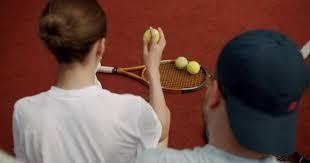ball_tennis: (143, 28, 160, 43), (175, 57, 188, 69), (188, 61, 200, 74)
